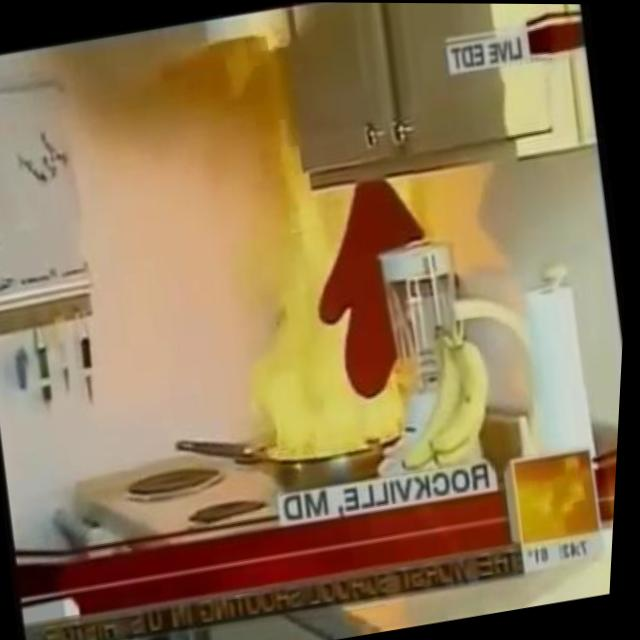fire: (196, 108, 441, 465)
